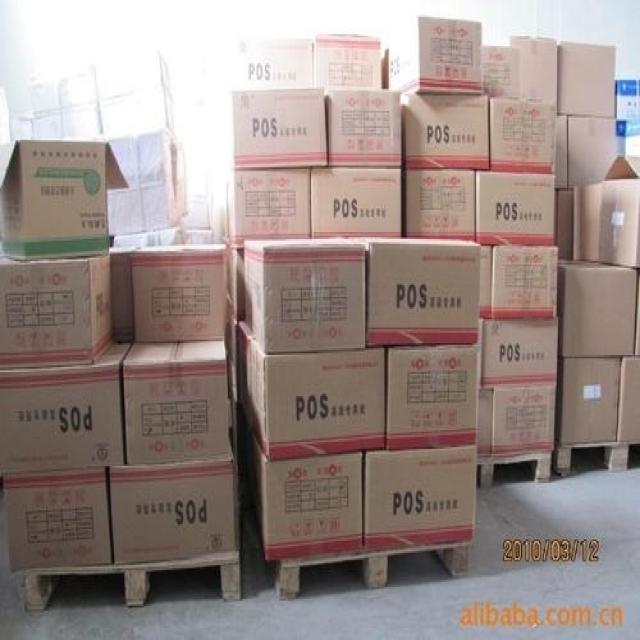box: (0, 343, 132, 473), (108, 439, 236, 565), (251, 340, 385, 459), (0, 142, 128, 263), (349, 234, 481, 346), (252, 433, 365, 563), (244, 236, 366, 353), (123, 341, 228, 464), (0, 256, 113, 369), (364, 447, 477, 551), (3, 466, 111, 573), (384, 345, 479, 449), (132, 244, 227, 345), (234, 85, 328, 169), (558, 261, 637, 357), (224, 167, 312, 247), (401, 92, 489, 169), (311, 167, 402, 237), (572, 177, 640, 268), (475, 169, 554, 246), (326, 90, 402, 167), (557, 357, 622, 444), (483, 316, 559, 389), (488, 94, 557, 174), (403, 169, 477, 241), (415, 17, 483, 94), (492, 382, 558, 461), (570, 114, 640, 188), (490, 244, 559, 317), (558, 44, 616, 114), (110, 244, 136, 346), (520, 38, 559, 106), (480, 46, 522, 99), (616, 357, 640, 444), (477, 386, 494, 461), (554, 114, 570, 189), (477, 244, 493, 317)
